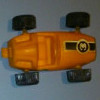carro: (4, 15, 96, 80)
